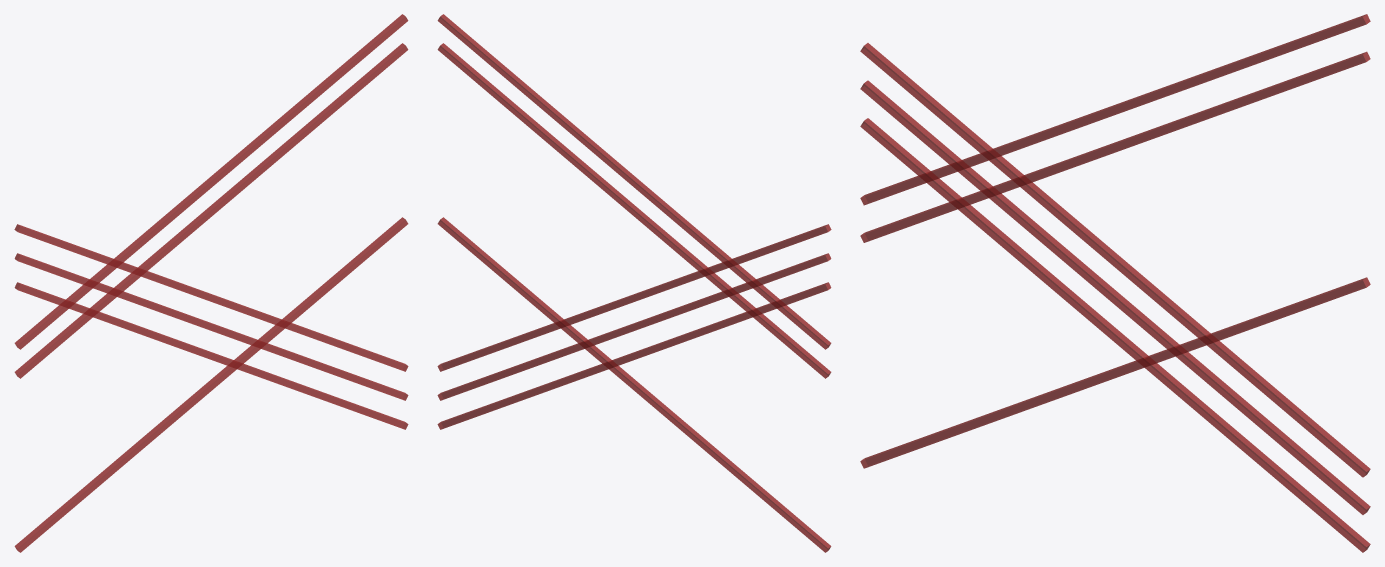
File: Lvl_018.fbx
The picture shows the model from 3 angles, left to right: view 1: azimuth 30°, elevation 25°; view 2: azimuth 150°, elevation 25°; view 3: azimuth 330°, elevation 25°; orthographic projection. The views are drawn at different scales.
Parts seen in each view (by area): view 1: pCube65, pCube2, pCube64, pCube70, pCube71, pCube72; view 2: pCube2, pCube65, pCube64, pCube70, pCube71, pCube72; view 3: pCube70, pCube71, pCube72, pCube2, pCube65, pCube64.
Boxes of the visible parts, x1,y1,x2,y2 form: pCube65: (14, 14, 408, 349); pCube2: (14, 217, 408, 552); pCube64: (14, 43, 408, 378); pCube70: (14, 224, 408, 371); pCube71: (14, 253, 408, 400); pCube72: (14, 282, 408, 429); pCube2: (437, 217, 831, 552); pCube65: (437, 14, 831, 349); pCube64: (437, 43, 831, 378); pCube70: (437, 224, 831, 371); pCube71: (437, 253, 831, 400); pCube72: (437, 282, 831, 429); pCube70: (860, 43, 1370, 477); pCube71: (860, 80, 1370, 514); pCube72: (860, 118, 1370, 552); pCube2: (860, 277, 1370, 468); pCube65: (860, 14, 1370, 205); pCube64: (860, 51, 1370, 242).
Size of the model in its own units: 1745 by 1888 by 25.
